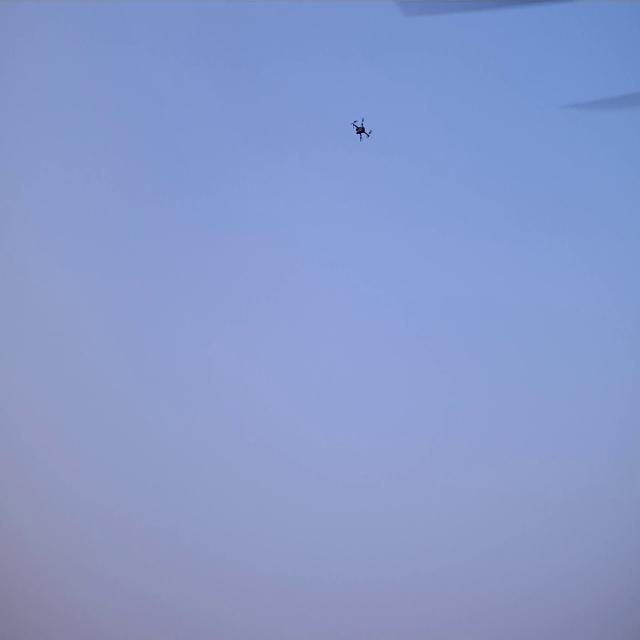UAV: (353, 120, 370, 141)
